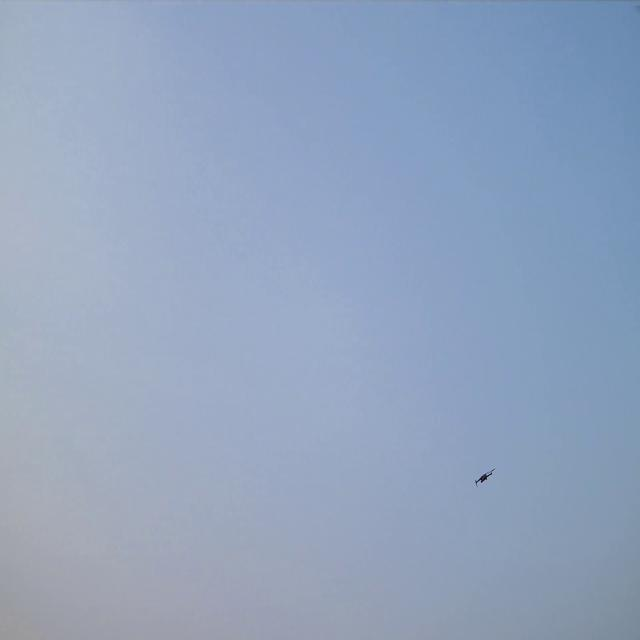UAV: (476, 471, 492, 485)
